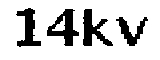1: (12, 1, 42, 51)
4: (44, 7, 81, 49)
k: (79, 5, 113, 51)
v: (116, 13, 148, 50)
